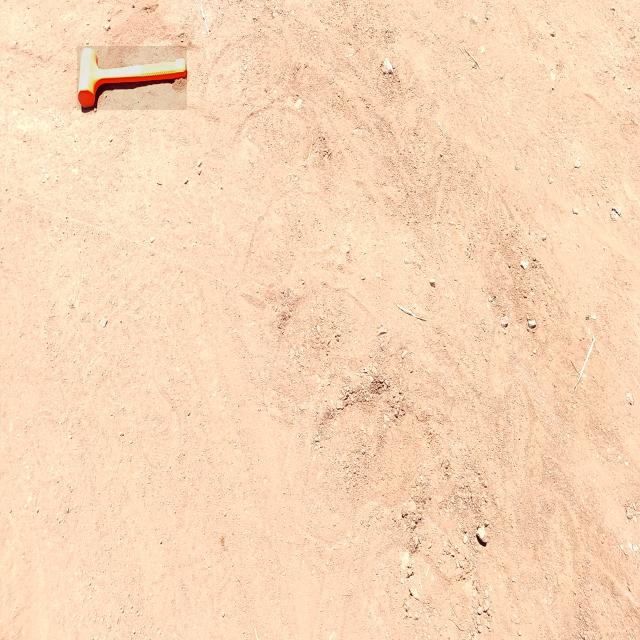Orange_hammer: (77, 46, 187, 110)
